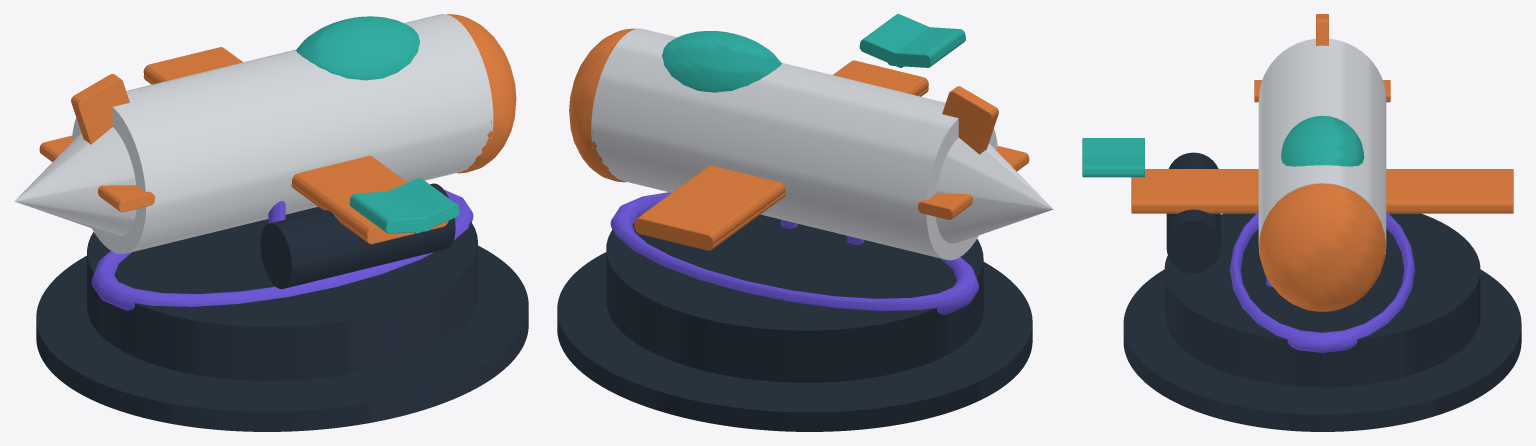
File: 0353_航空航天图鉴_F-35B战斗机.glb
3 renders of one model, left to right at view 1: azimuth 30°, elevation 25°; view 2: azimuth 150°, elevation 25°; view 3: azimuth 270°, elevation 25°, orthographic. The views are drawn at different scales.
Parts seen in each view (by area): view 1: card_0353; view 2: card_0353; view 3: card_0353.
Boxes of the visible parts, x1,y1,x2,y2 form: card_0353: [14, 14, 528, 431]; card_0353: [557, 14, 1053, 431]; card_0353: [1082, 14, 1521, 431].
Size of the model in its own units: 1.73 by 1 by 1.57.
